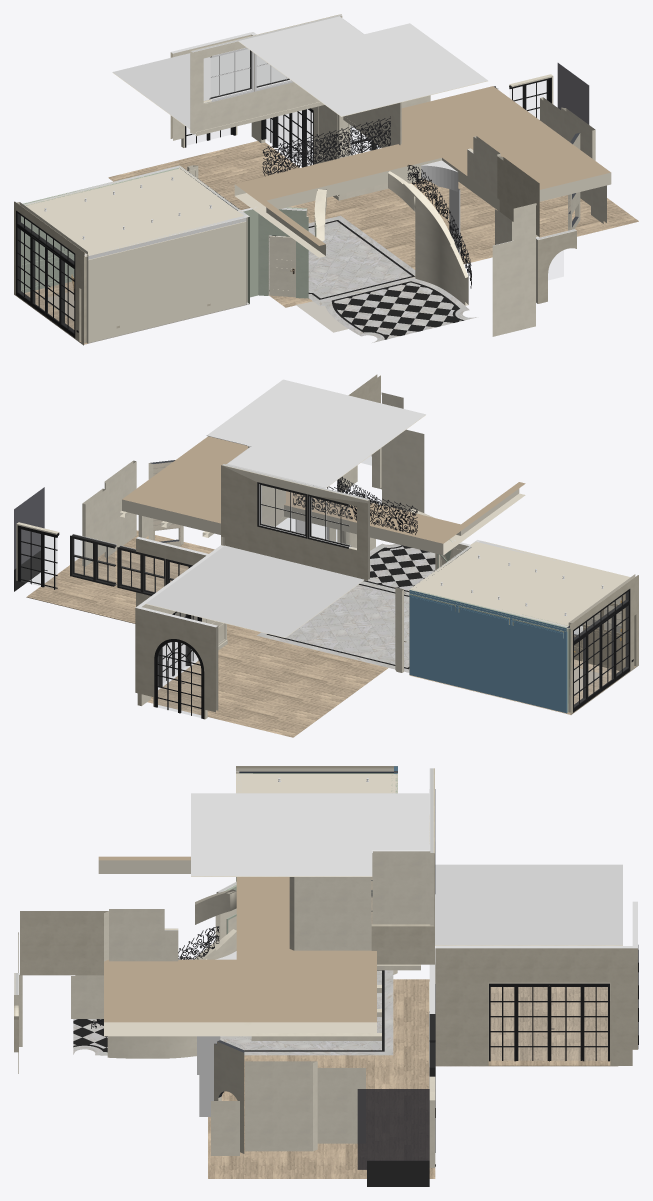
The model's file is dining-room-0e91ece40b9a.glb.
3 renders of one model, top to bottom at view 1: azimuth 30°, elevation 25°; view 2: azimuth 150°, elevation 25°; view 3: azimuth 270°, elevation 25°, orthographic. The views are drawn at different scales.
Visible parts, largest first — view 1: dining-room-look-2575515a05775d9e, dining-room-look-9d91b47435c6fb33, dining-room-look-3b0077416469e01b, dining-room-d999b7e09afcf2f4, dining-room-2575515a05775d9e, dining-room-look-4a969f5cc1ae3dfe, dining-room-look-245f595ae2832e16, dining-room-look-e388ad8855329420, dining-room-look-6ea1225136f14ed6, dining-room-look-d5a4a1b5d3594c04, dining-room-look-8c6a7019fd0063e7, dining-room-look-b25fb5f5b7a449e2 (+42 smaller); view 2: dining-room-look-3b0077416469e01b, dining-room-b19b106fc304963c, dining-room-look-9d91b47435c6fb33, dining-room-look-2575515a05775d9e, dining-room-look-4a969f5cc1ae3dfe, dining-room-2575515a05775d9e, dining-room-look-245f595ae2832e16, dining-room-look-6ea1225136f14ed6, dining-room-look-969b861f9850351e, dining-room-look-d5a4a1b5d3594c04, dining-room-look-cdd3b97a7e9637be, dining-room-look-e388ad8855329420 (+26 smaller); view 3: dining-room-look-2575515a05775d9e, dining-room-look-3b0077416469e01b, dining-room-look-9d91b47435c6fb33, dining-room-look-4a969f5cc1ae3dfe, dining-room-look-e706aa16b4547c37, dining-room-look-5b6bbac285e58726, dining-room-look-69af8f587252f9fa, dining-room-look-62353aa10fc57f23, dining-room-look-cbd4bf73d9724a66, dining-room-look-32b959c9aa406288, dining-room-look-99336d62df756830, dining-room-2575515a05775d9e (+22 smaller).
Boxes of the visible parts, x1,y1,x2,y2 form: dining-room-look-2575515a05775d9e: [234, 86, 611, 257]; dining-room-look-9d91b47435c6fb33: [238, 16, 487, 116]; dining-room-look-3b0077416469e01b: [108, 141, 638, 307]; dining-room-d999b7e09afcf2f4: [88, 216, 246, 342]; dining-room-2575515a05775d9e: [15, 166, 248, 256]; dining-room-look-4a969f5cc1ae3dfe: [112, 49, 288, 129]; dining-room-look-245f595ae2832e16: [190, 14, 342, 134]; dining-room-look-e388ad8855329420: [334, 282, 461, 339]; dining-room-look-6ea1225136f14ed6: [269, 221, 411, 298]; dining-room-look-d5a4a1b5d3594c04: [492, 235, 535, 336]; dining-room-look-8c6a7019fd0063e7: [388, 171, 468, 305]; dining-room-look-b25fb5f5b7a449e2: [262, 116, 390, 176]; dining-room-look-3b0077416469e01b: [26, 530, 387, 737]; dining-room-b19b106fc304963c: [409, 590, 567, 713]; dining-room-look-9d91b47435c6fb33: [206, 379, 425, 488]; dining-room-look-2575515a05775d9e: [122, 436, 525, 555]; dining-room-look-4a969f5cc1ae3dfe: [146, 545, 364, 637]; dining-room-2575515a05775d9e: [410, 541, 637, 628]; dining-room-look-245f595ae2832e16: [221, 464, 369, 580]; dining-room-look-6ea1225136f14ed6: [286, 584, 409, 667]; dining-room-look-969b861f9850351e: [135, 606, 218, 712]; dining-room-look-d5a4a1b5d3594c04: [382, 429, 424, 512]; dining-room-look-cdd3b97a7e9637be: [257, 482, 307, 538]; dining-room-look-e388ad8855329420: [368, 546, 435, 590]; dining-room-look-2575515a05775d9e: [98, 856, 376, 1036]; dining-room-look-3b0077416469e01b: [208, 979, 617, 1178]; dining-room-look-9d91b47435c6fb33: [191, 793, 429, 876]; dining-room-look-4a969f5cc1ae3dfe: [435, 864, 622, 945]; dining-room-look-e706aa16b4547c37: [435, 946, 632, 1065]; dining-room-look-5b6bbac285e58726: [245, 1061, 317, 1151]; dining-room-look-69af8f587252f9fa: [289, 877, 371, 950]; dining-room-look-62353aa10fc57f23: [20, 911, 108, 975]; dining-room-look-cbd4bf73d9724a66: [357, 1089, 429, 1169]; dining-room-look-32b959c9aa406288: [372, 851, 429, 924]; dining-room-look-99336d62df756830: [317, 1068, 365, 1143]; dining-room-2575515a05775d9e: [236, 766, 397, 793].
Size of the model in its own units: 20 by 6.36 by 16.79.
Materials: 52 (15 with a texture image).
